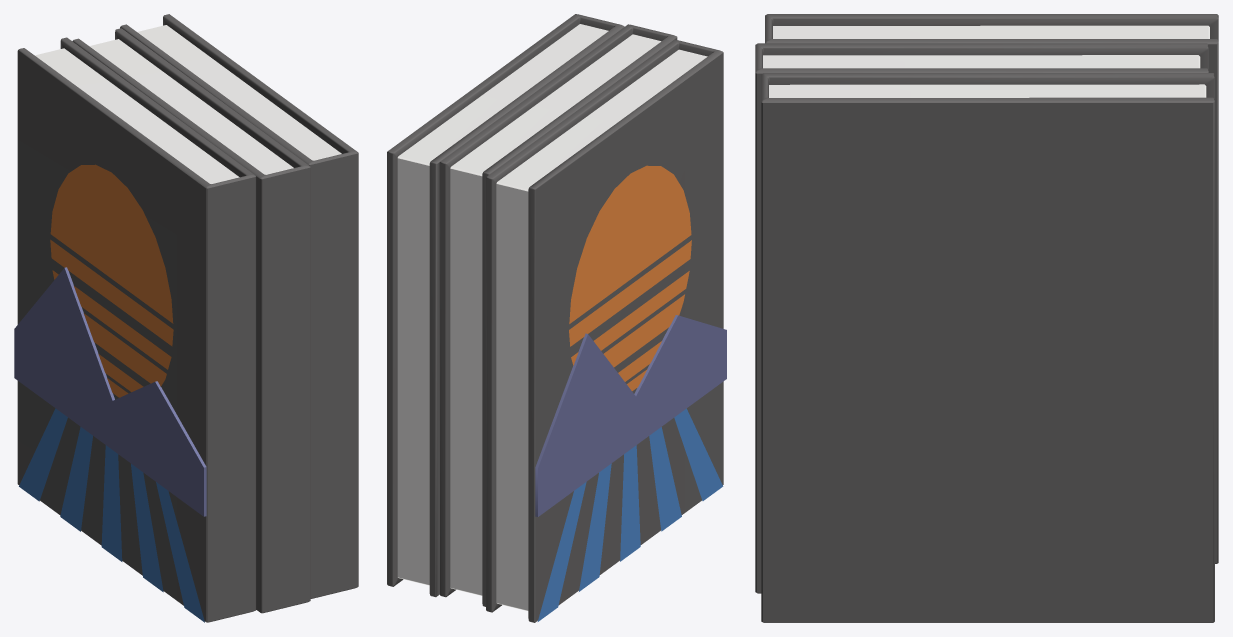
File: Books_7.glb
3 renders of one model, left to right at view 1: azimuth 30°, elevation 25°; view 2: azimuth 150°, elevation 25°; view 3: azimuth 270°, elevation 25°, orthographic. The views are drawn at different scales.
Visible parts, largest first — view 1: Books_7; view 2: Books_7; view 3: Books_7.
Boxes of the visible parts, x1,y1,x2,y2 form: Books_7: [14, 14, 358, 622]; Books_7: [387, 14, 726, 622]; Books_7: [755, 14, 1218, 622].
Bounding box in the file's own units: 0.1481 × 0.4012 × 0.3228.
1 material, 1 textured.
